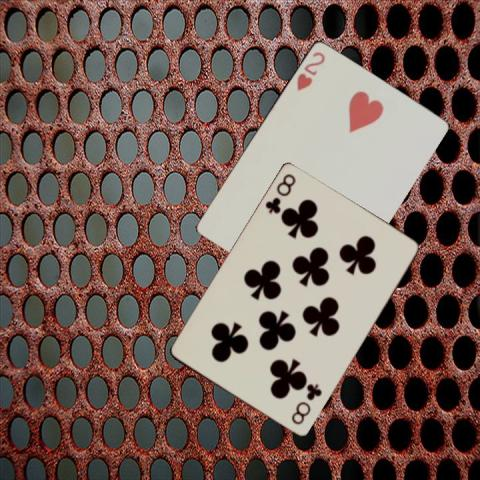2h: (293, 48, 327, 92)
8c: (288, 381, 324, 427), (262, 171, 297, 216)
